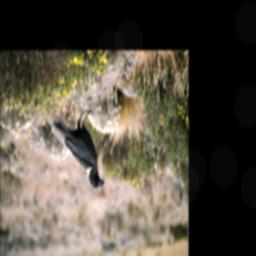Crow: (52, 107, 106, 191)
